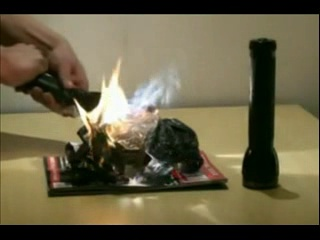fire: (72, 60, 129, 168)
smoke: (128, 64, 177, 170)
